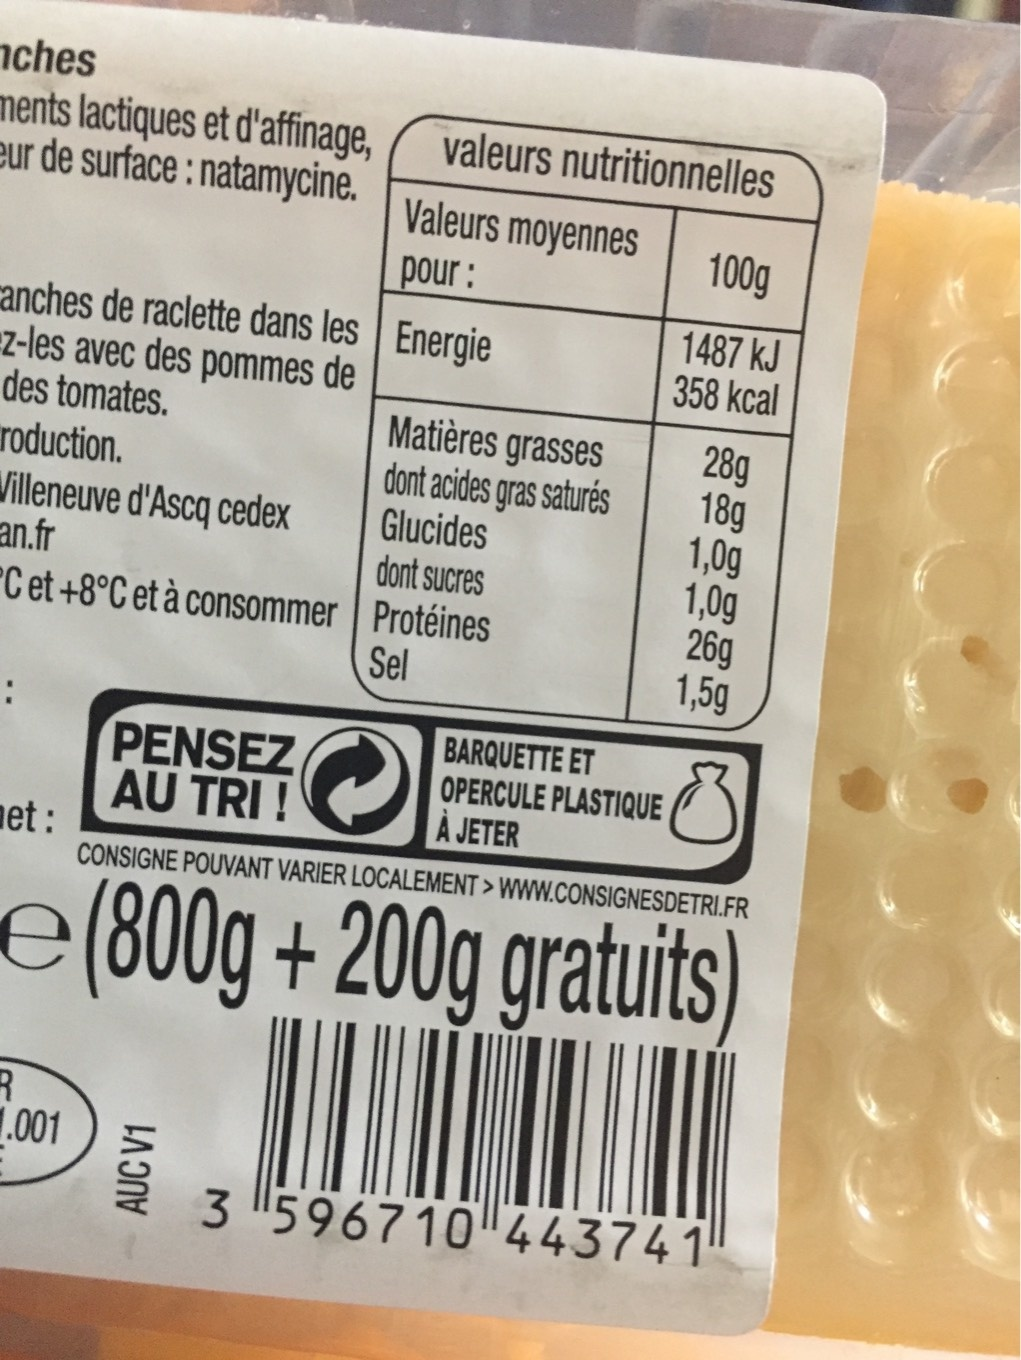column: (371, 184, 638, 705), (669, 250, 785, 718)
table: (362, 98, 822, 729)
